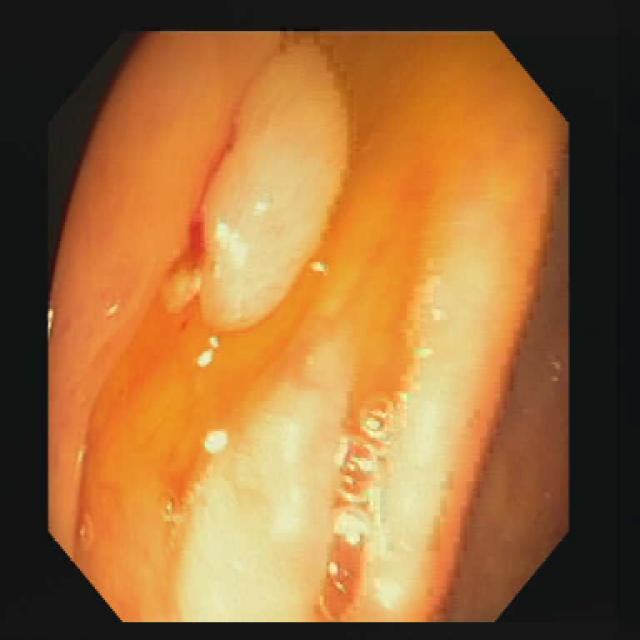tumor: (198, 44, 347, 327)
